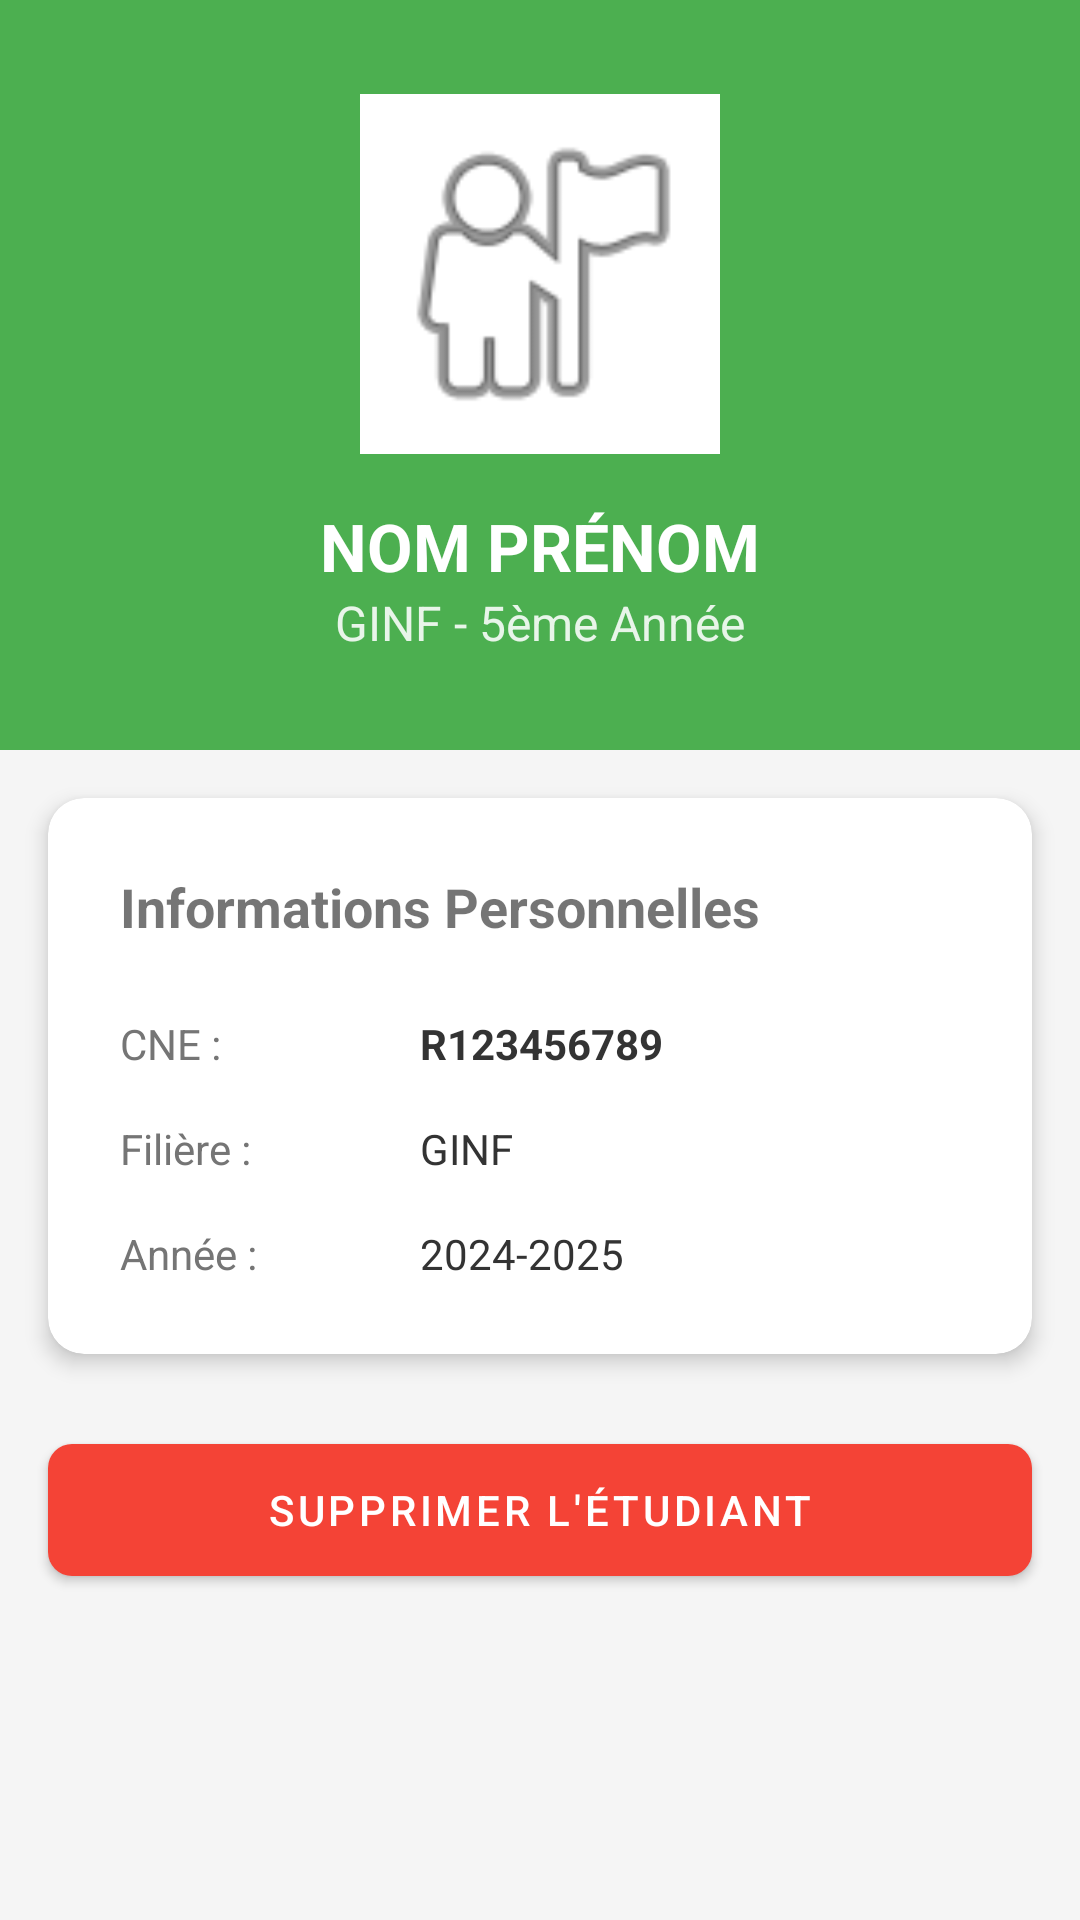

Named icons in this screenshot (1080px x 1920px) and their centers, (x=x, y=y):
myplaces: (x=540, y=274)
